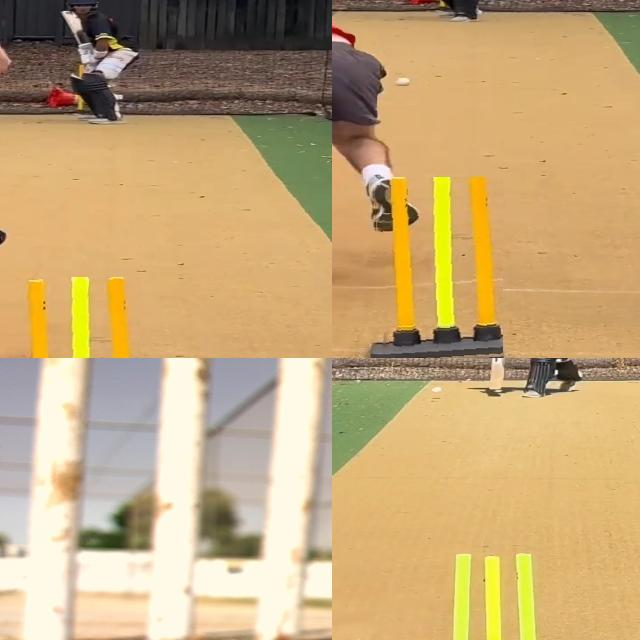Cricket ball: (394, 76, 413, 87), (430, 387, 444, 395)
Stumps: (373, 177, 502, 358), (7, 277, 140, 358), (443, 549, 549, 640)
